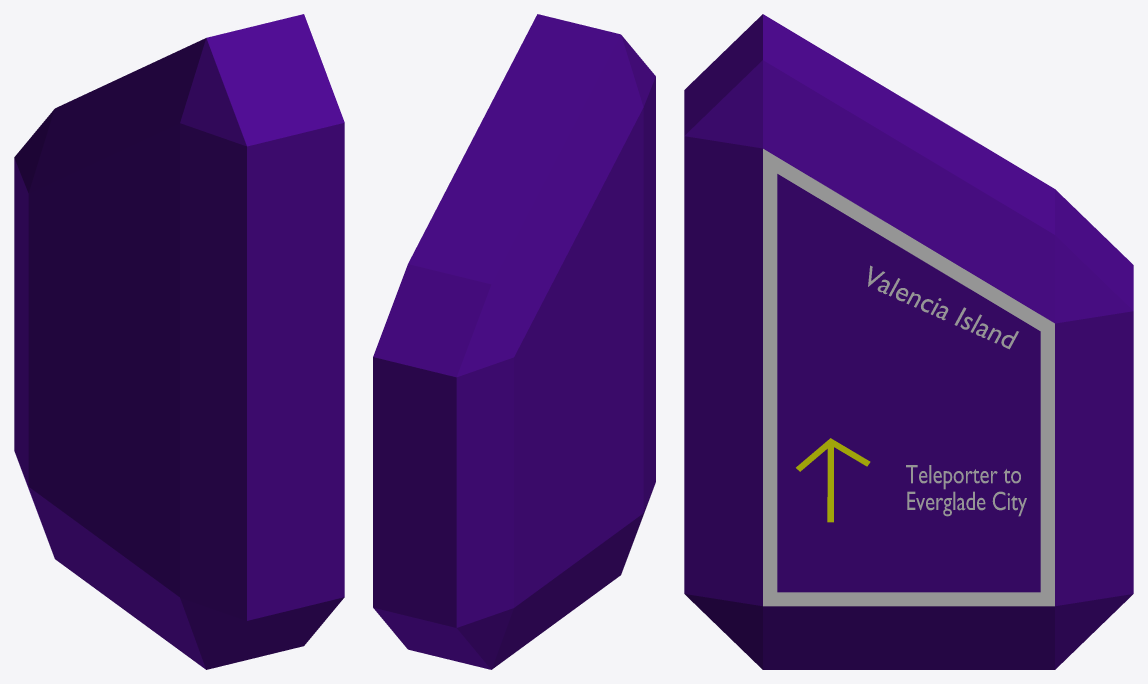
The model's file is valencia_island_sign_2.fbx.
3 renders of one model, left to right at view 1: azimuth 30°, elevation 25°; view 2: azimuth 150°, elevation 25°; view 3: azimuth 270°, elevation 25°, orthographic. The views are drawn at different scales.
Visible parts, largest first — view 1: Cube; view 2: Cube; view 3: Cube, Text.001, Text.
Part boxes in pixels (<box>): Cube: <box>14,14,344,669</box>; Cube: <box>373,14,655,669</box>; Cube: <box>684,14,1133,669</box>; Text.001: <box>906,465,1026,516</box>; Text: <box>868,265,1018,349</box>.
Bounding box in the file's own units: 13.3 × 52.06 × 34.77.
